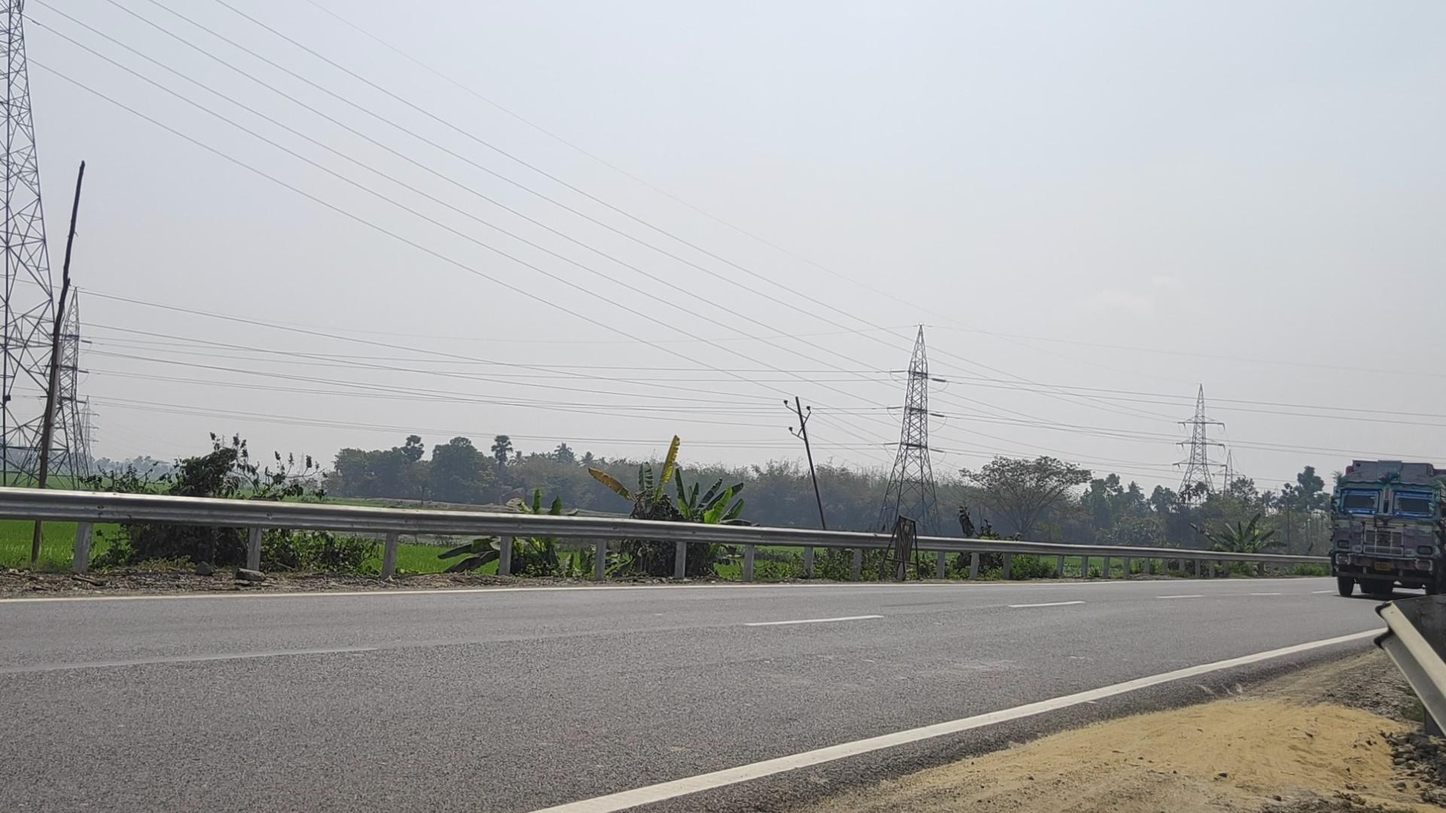truck: (1329, 458, 1446, 600)
